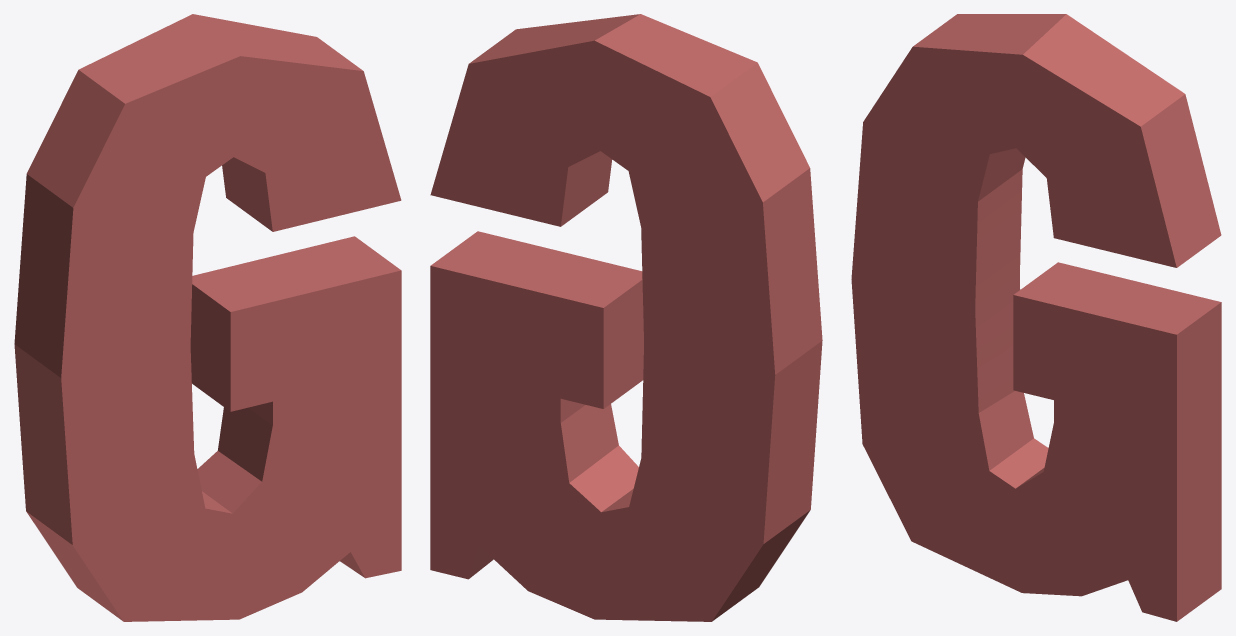
File: SM_Sign_3dText_Letter_G.obj
3 renders of one model, left to right at view 1: azimuth 30°, elevation 25°; view 2: azimuth 150°, elevation 25°; view 3: azimuth 330°, elevation 25°, orthographic. The views are drawn at different scales.
Parts seen in each view (by area): view 1: SM_Sign_3dText_Letter_G_0; view 2: SM_Sign_3dText_Letter_G_0; view 3: SM_Sign_3dText_Letter_G_0.
Part boxes in pixels (x1,y1,x2,y2): SM_Sign_3dText_Letter_G_0: (14, 14, 401, 621); SM_Sign_3dText_Letter_G_0: (430, 14, 822, 621); SM_Sign_3dText_Letter_G_0: (851, 14, 1221, 621).
Size of the model in its own units: 0.4599 by 0.7379 by 0.1093.
Materials: 1 (1 with a texture image).
